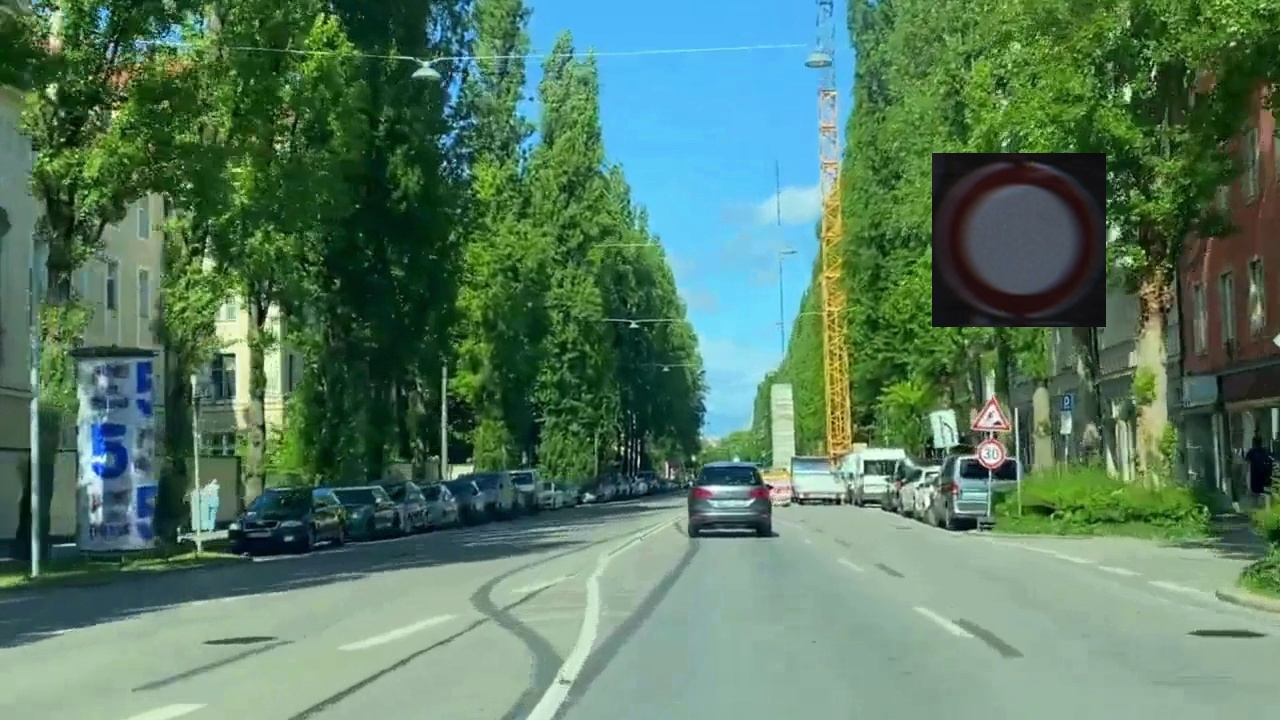No vehicles: (932, 153, 1106, 327)
